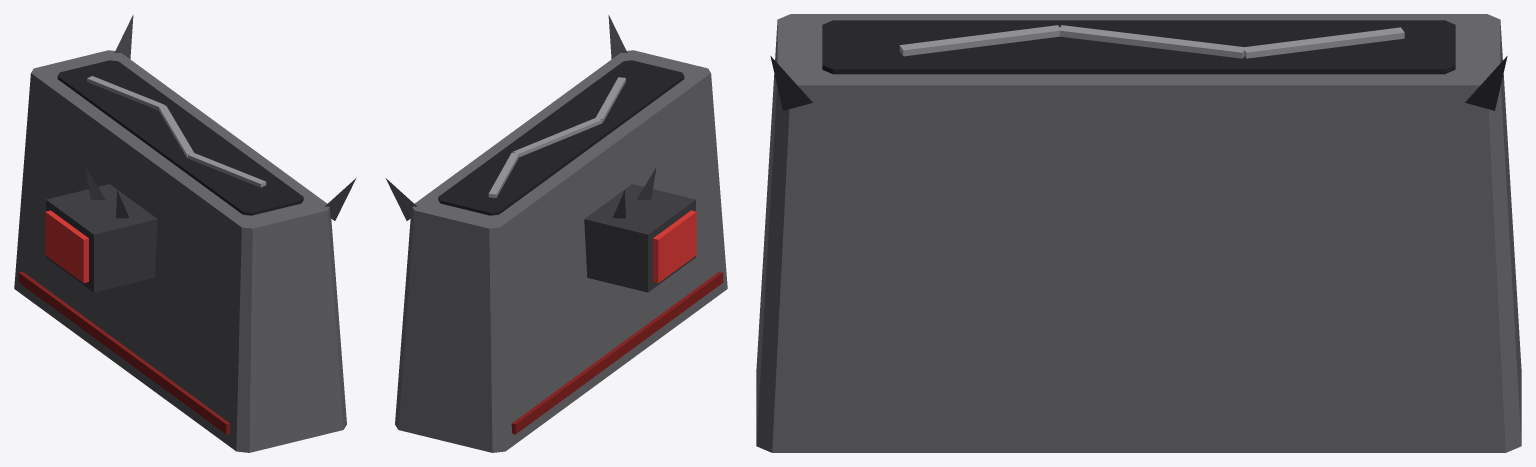
The model's file is void_monolith_right_d.obj.
3 renders of one model, left to right at view 1: azimuth 30°, elevation 25°; view 2: azimuth 150°, elevation 25°; view 3: azimuth 270°, elevation 25°, orthographic. The views are drawn at different scales.
Visible parts, largest first — view 1: void_monolith_right_d_0, void_monolith_right_d_1, void_monolith_right_d_5, void_monolith_right_d_7, void_monolith_right_d_6, void_monolith_right_d_2, void_monolith_right_d_4, void_monolith_right_d_3, void_monolith_right_d_10, void_monolith_right_d_11; view 2: void_monolith_right_d_0, void_monolith_right_d_1, void_monolith_right_d_5, void_monolith_right_d_7, void_monolith_right_d_6, void_monolith_right_d_3, void_monolith_right_d_4, void_monolith_right_d_2, void_monolith_right_d_11, void_monolith_right_d_10; view 3: void_monolith_right_d_0, void_monolith_right_d_1, void_monolith_right_d_3, void_monolith_right_d_2, void_monolith_right_d_4, void_monolith_right_d_10, void_monolith_right_d_11.
Part boxes in pixels (<box>): void_monolith_right_d_0: <box>14,50,346,452</box>; void_monolith_right_d_1: <box>57,60,303,215</box>; void_monolith_right_d_5: <box>46,184,157,292</box>; void_monolith_right_d_7: <box>18,271,230,434</box>; void_monolith_right_d_6: <box>45,210,88,283</box>; void_monolith_right_d_2: <box>188,152,266,187</box>; void_monolith_right_d_4: <box>87,76,165,110</box>; void_monolith_right_d_3: <box>159,106,193,157</box>; void_monolith_right_d_10: <box>324,178,356,220</box>; void_monolith_right_d_11: <box>114,15,133,59</box>; void_monolith_right_d_0: <box>395,50,727,452</box>; void_monolith_right_d_1: <box>438,60,684,215</box>; void_monolith_right_d_5: <box>584,184,695,292</box>; void_monolith_right_d_7: <box>511,271,723,434</box>; void_monolith_right_d_6: <box>653,210,696,283</box>; void_monolith_right_d_3: <box>512,118,601,157</box>; void_monolith_right_d_4: <box>488,152,519,197</box>; void_monolith_right_d_2: <box>595,77,625,122</box>; void_monolith_right_d_11: <box>385,178,417,220</box>; void_monolith_right_d_10: <box>608,15,627,59</box>; void_monolith_right_d_0: <box>756,14,1521,452</box>; void_monolith_right_d_1: <box>822,20,1455,74</box>; void_monolith_right_d_3: <box>1058,25,1245,58</box>; void_monolith_right_d_2: <box>899,25,1060,56</box>; void_monolith_right_d_4: <box>1243,27,1404,58</box>; void_monolith_right_d_10: <box>770,56,812,110</box>; void_monolith_right_d_11: <box>1465,56,1507,110</box>.
Bounding box in the file's own units: 1.31 × 1.69 × 2.9.
